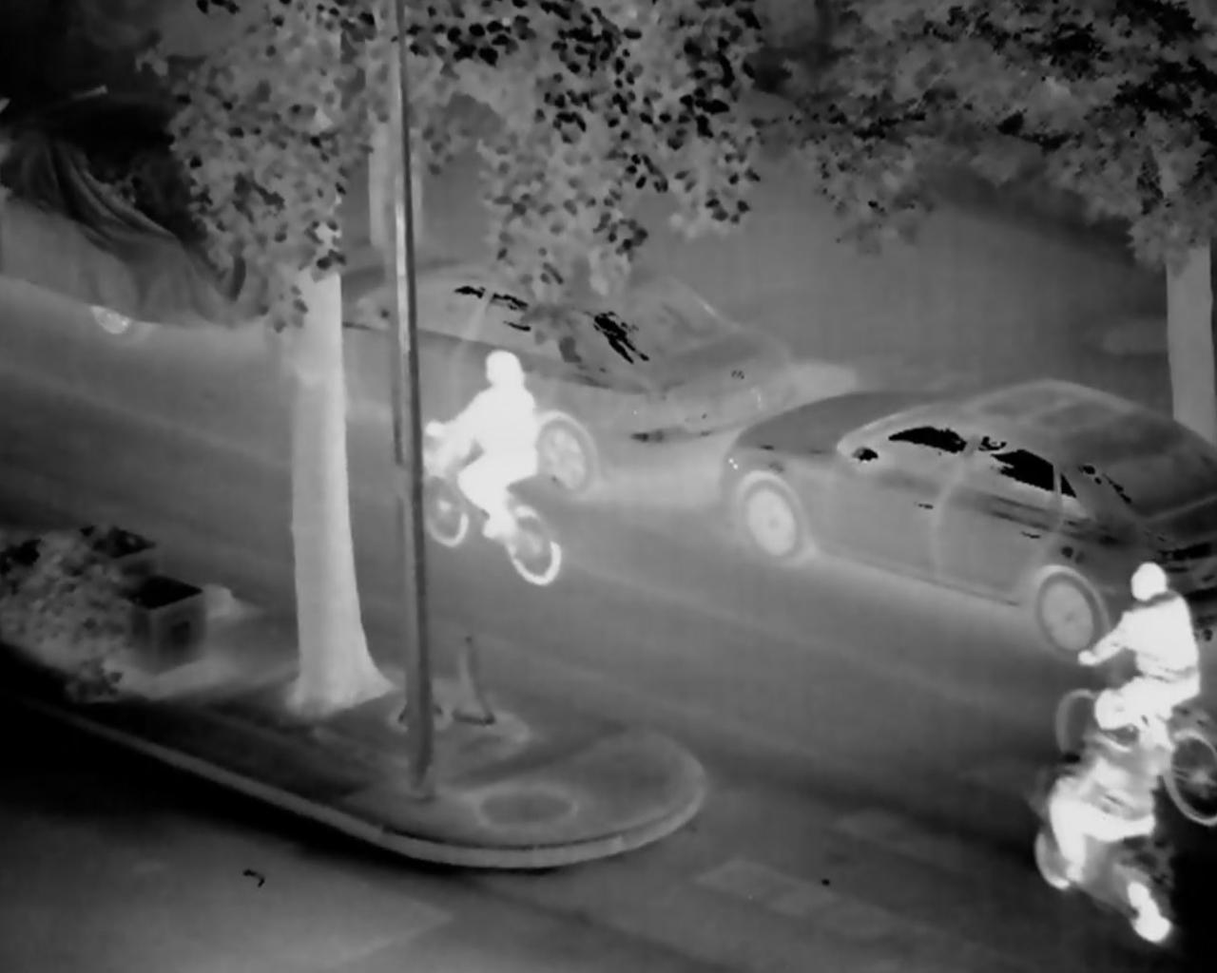person: (431, 345, 560, 555), (1074, 560, 1207, 739)
